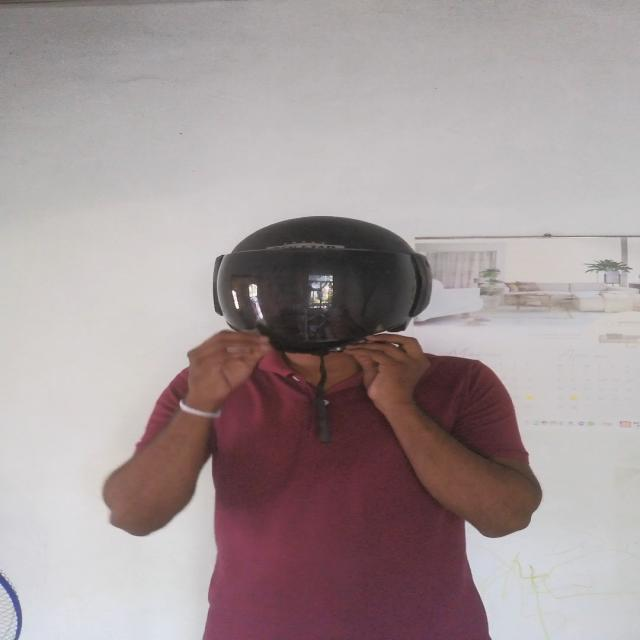Helmet_Wearer: (188, 212, 446, 392)
